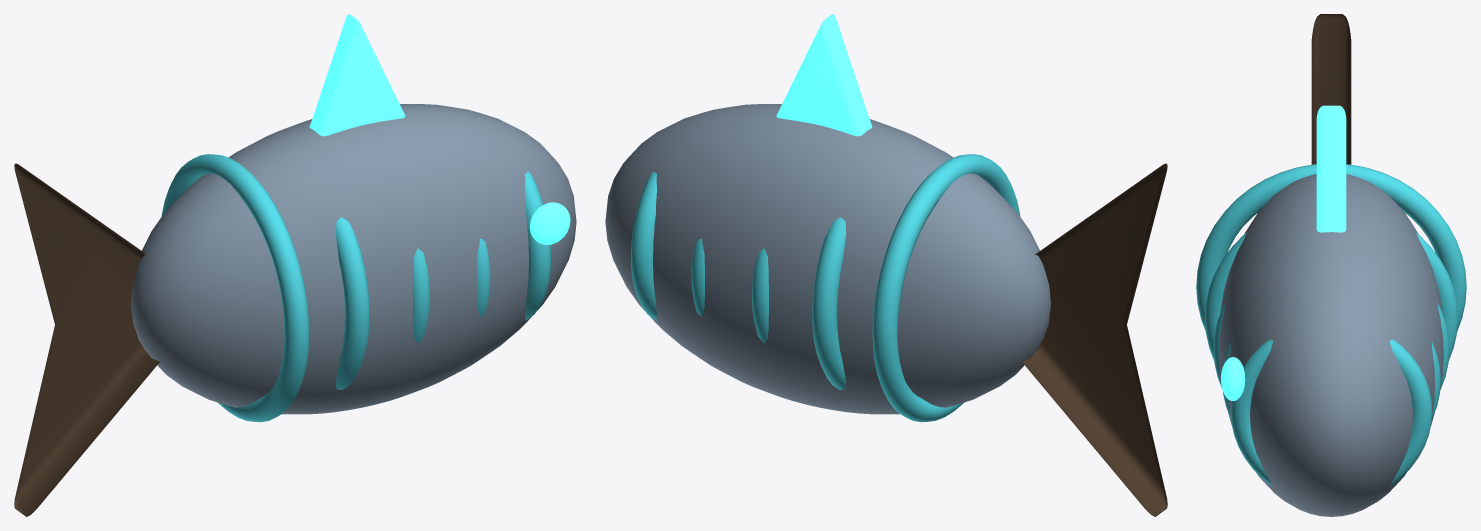
The model's file is aquatic_v6.glb.
The picture shows the model from 3 angles, left to right: view 1: azimuth 30°, elevation 25°; view 2: azimuth 150°, elevation 25°; view 3: azimuth 270°, elevation 25°; orthographic projection.
Parts seen in each view (by area): view 1: ARMOURED_FISH_PRIMARY, FISH_TAIL_SECONDARY, FISH_PLATE_ACCENT, FISH_DORSAL_EMISSIVE, FISH_PLATE_ACCENT.001, FISH_PLATE_ACCENT.004, EYE_EMISSIVE, FISH_PLATE_ACCENT.002, FISH_PLATE_ACCENT.003; view 2: ARMOURED_FISH_PRIMARY, FISH_TAIL_SECONDARY, FISH_PLATE_ACCENT, FISH_DORSAL_EMISSIVE, FISH_PLATE_ACCENT.001, FISH_PLATE_ACCENT.004, FISH_PLATE_ACCENT.002, FISH_PLATE_ACCENT.003; view 3: ARMOURED_FISH_PRIMARY, FISH_PLATE_ACCENT, FISH_PLATE_ACCENT.004, FISH_TAIL_SECONDARY, FISH_DORSAL_EMISSIVE, FISH_PLATE_ACCENT.001, EYE_EMISSIVE, FISH_PLATE_ACCENT.002, FISH_PLATE_ACCENT.003.
Part boxes in pixels (box(x1,y1,x2,y2)): ARMOURED_FISH_PRIMARY: box(131, 104, 576, 414); FISH_TAIL_SECONDARY: box(14, 163, 159, 516); FISH_PLATE_ACCENT: box(161, 154, 309, 422); FISH_DORSAL_EMISSIVE: box(309, 14, 405, 136); FISH_PLATE_ACCENT.001: box(335, 217, 369, 390); FISH_PLATE_ACCENT.004: box(525, 171, 550, 320); EYE_EMISSIVE: box(530, 202, 570, 244); FISH_PLATE_ACCENT.002: box(413, 248, 429, 343); FISH_PLATE_ACCENT.003: box(477, 238, 490, 317); ARMOURED_FISH_PRIMARY: box(605, 104, 1050, 414); FISH_TAIL_SECONDARY: box(1022, 163, 1167, 516); FISH_PLATE_ACCENT: box(872, 154, 1020, 422); FISH_DORSAL_EMISSIVE: box(776, 14, 872, 136); FISH_PLATE_ACCENT.001: box(812, 217, 846, 390); FISH_PLATE_ACCENT.004: box(631, 171, 656, 320); FISH_PLATE_ACCENT.002: box(752, 248, 768, 343); FISH_PLATE_ACCENT.003: box(691, 238, 704, 317); ARMOURED_FISH_PRIMARY: box(1219, 174, 1443, 516); FISH_PLATE_ACCENT: box(1196, 164, 1466, 330); FISH_PLATE_ACCENT.004: box(1230, 339, 1432, 486); FISH_TAIL_SECONDARY: box(1311, 14, 1351, 164); FISH_DORSAL_EMISSIVE: box(1316, 105, 1346, 232); FISH_PLATE_ACCENT.001: box(1205, 232, 1457, 360); EYE_EMISSIVE: box(1221, 357, 1245, 400); FISH_PLATE_ACCENT.002: box(1213, 302, 1449, 389); FISH_PLATE_ACCENT.003: box(1223, 342, 1440, 418).
Size of the model in its own units: 2.54 by 1.83 by 1.1.
